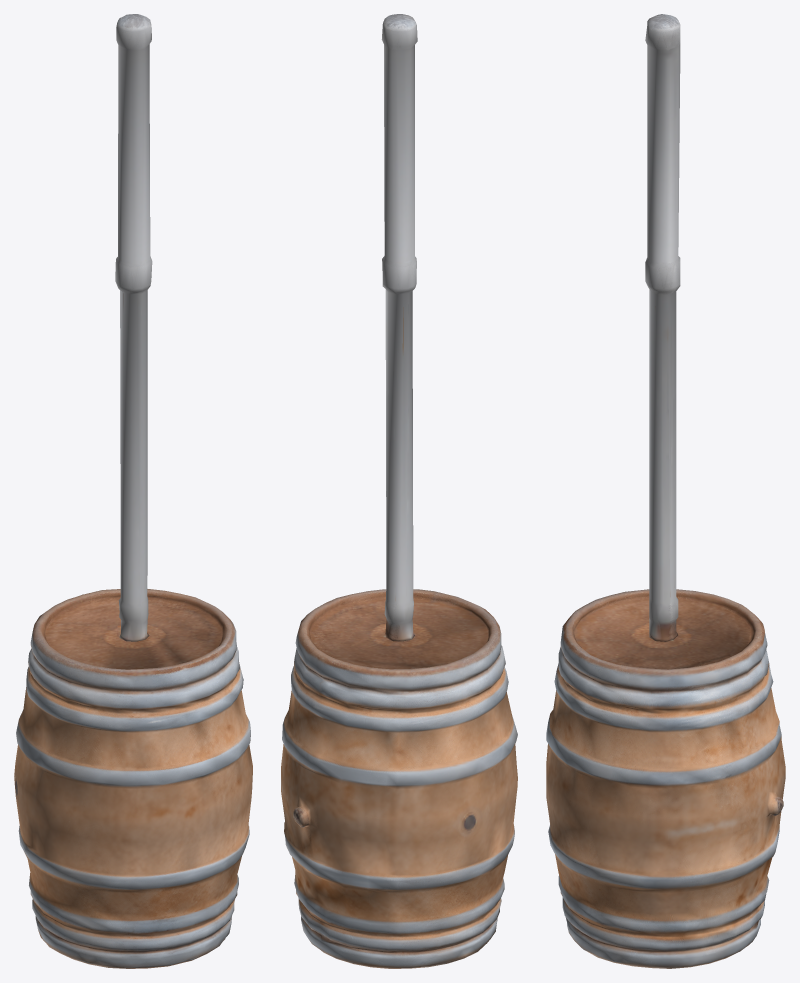
Rendered from Wine_Barrel_Light_Pole_8FTTall_0222023056_texture.glb.
3 views of the same model, side by side, from view 1: azimuth 30°, elevation 25°; view 2: azimuth 150°, elevation 25°; view 3: azimuth 270°, elevation 25° (orthographic).
Visible parts, largest first — view 1: Mesh_0.001; view 2: Mesh_0.001; view 3: Mesh_0.001.
Boxes of the visible parts, x1,y1,x2,y2 form: Mesh_0.001: [14, 14, 252, 968]; Mesh_0.001: [281, 14, 517, 968]; Mesh_0.001: [546, 14, 785, 968].
Bounding box in the file's own units: 0.5758 × 2.44 × 0.5808.
Materials: 1 (1 with a texture image).
